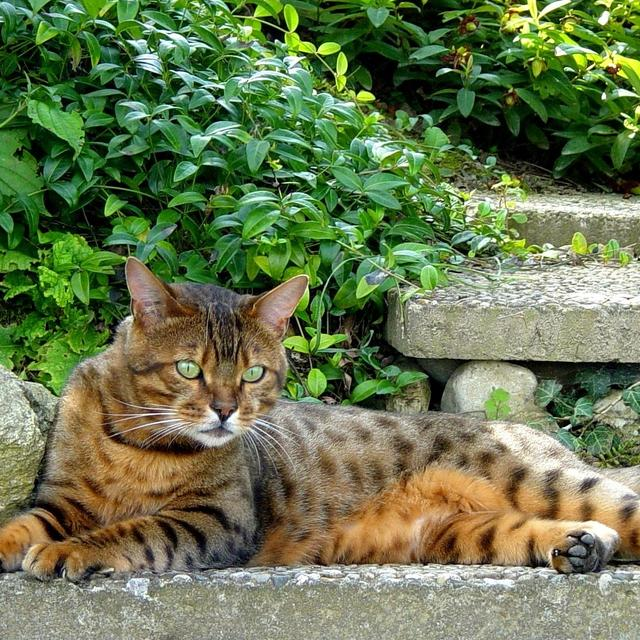animals: (130, 256, 307, 419)
